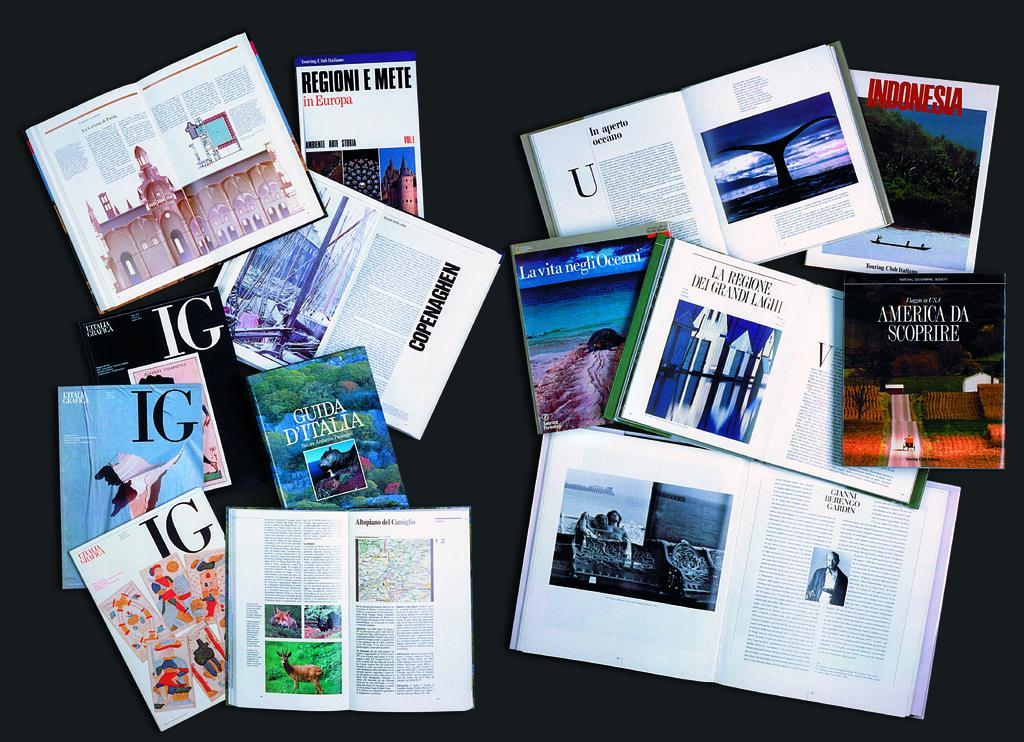Book: (508, 425, 960, 720), (601, 234, 928, 508), (24, 30, 327, 315), (519, 38, 895, 264), (213, 167, 503, 440), (225, 505, 474, 713), (804, 67, 999, 274), (68, 486, 227, 731), (509, 219, 671, 435), (56, 382, 207, 590), (243, 344, 409, 510), (294, 50, 424, 219)
